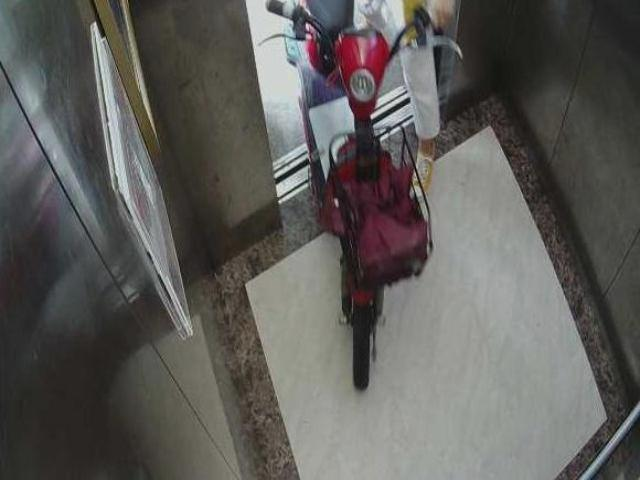emotor: (271, 4, 442, 396)
